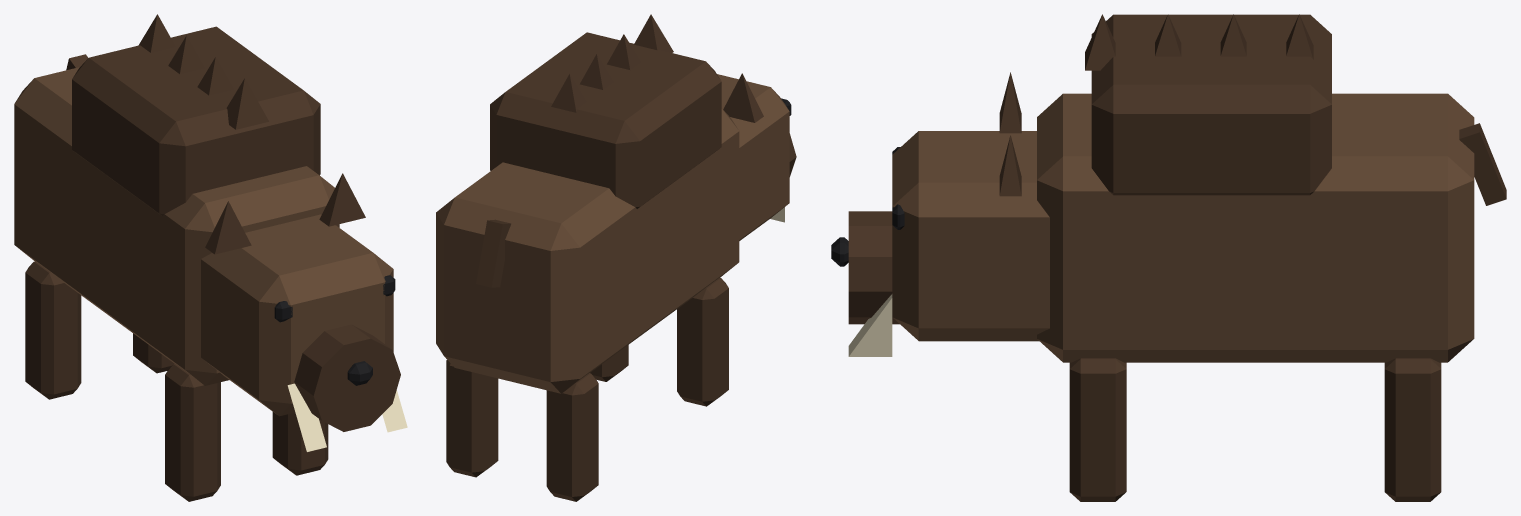
The model's file is beast_boar.glb.
3 renders of one model, left to right at view 1: azimuth 30°, elevation 25°; view 2: azimuth 150°, elevation 25°; view 3: azimuth 270°, elevation 25°, orthographic. The views are drawn at different scales.
Visible parts, largest first — view 1: beast_boar; view 2: beast_boar; view 3: beast_boar.
Boxes of the visible parts, box(x1,y1,x2,y2) form: beast_boar: box(14, 14, 407, 501); beast_boar: box(436, 14, 796, 501); beast_boar: box(831, 14, 1506, 501).
Size of the model in its own units: 0.48 by 1.14 by 1.54.
